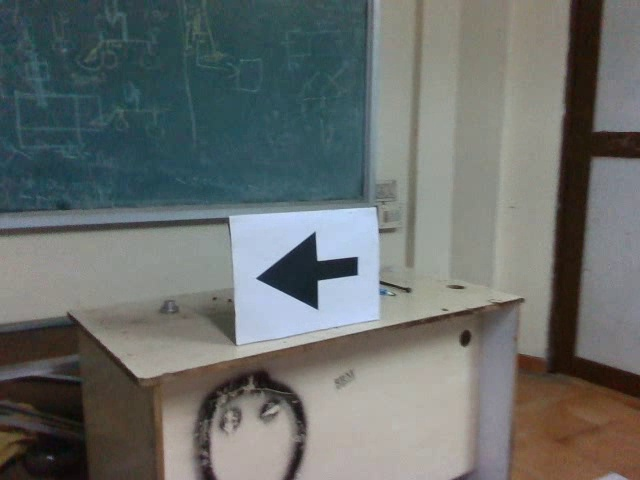Left: (249, 228, 362, 315)
